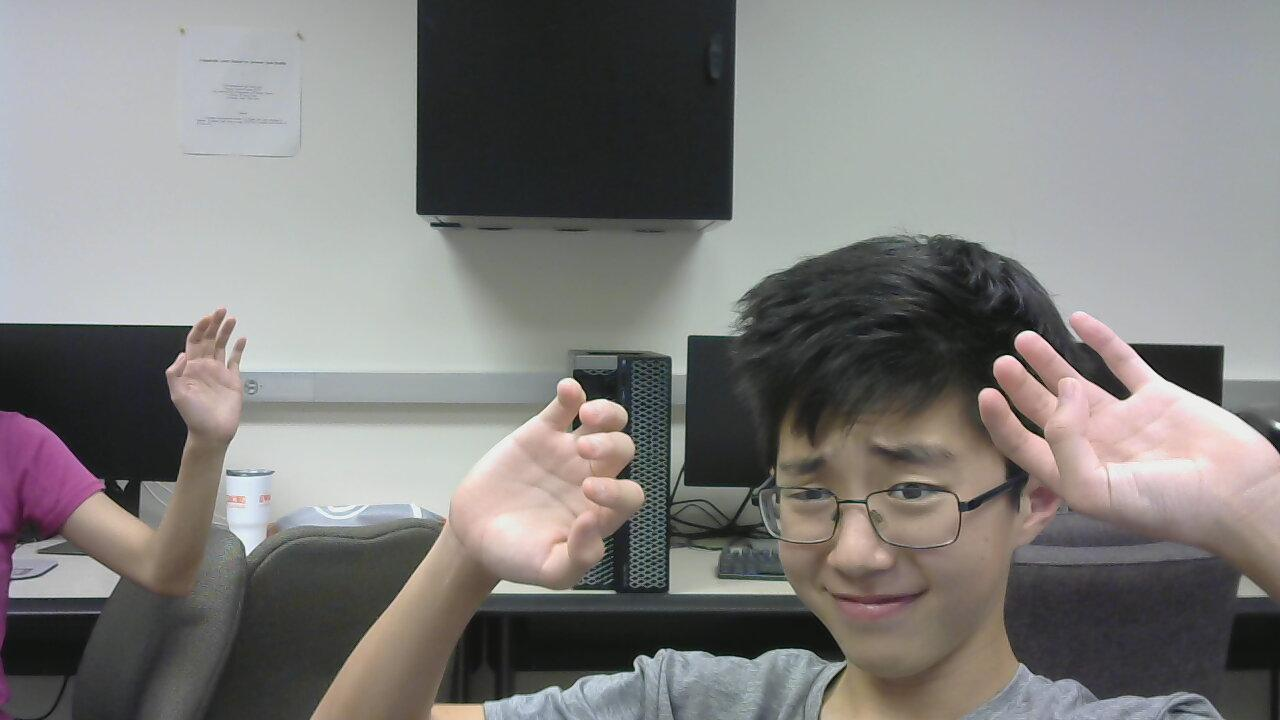hands: (982, 298, 1276, 531), (451, 371, 647, 592), (165, 300, 258, 449)
